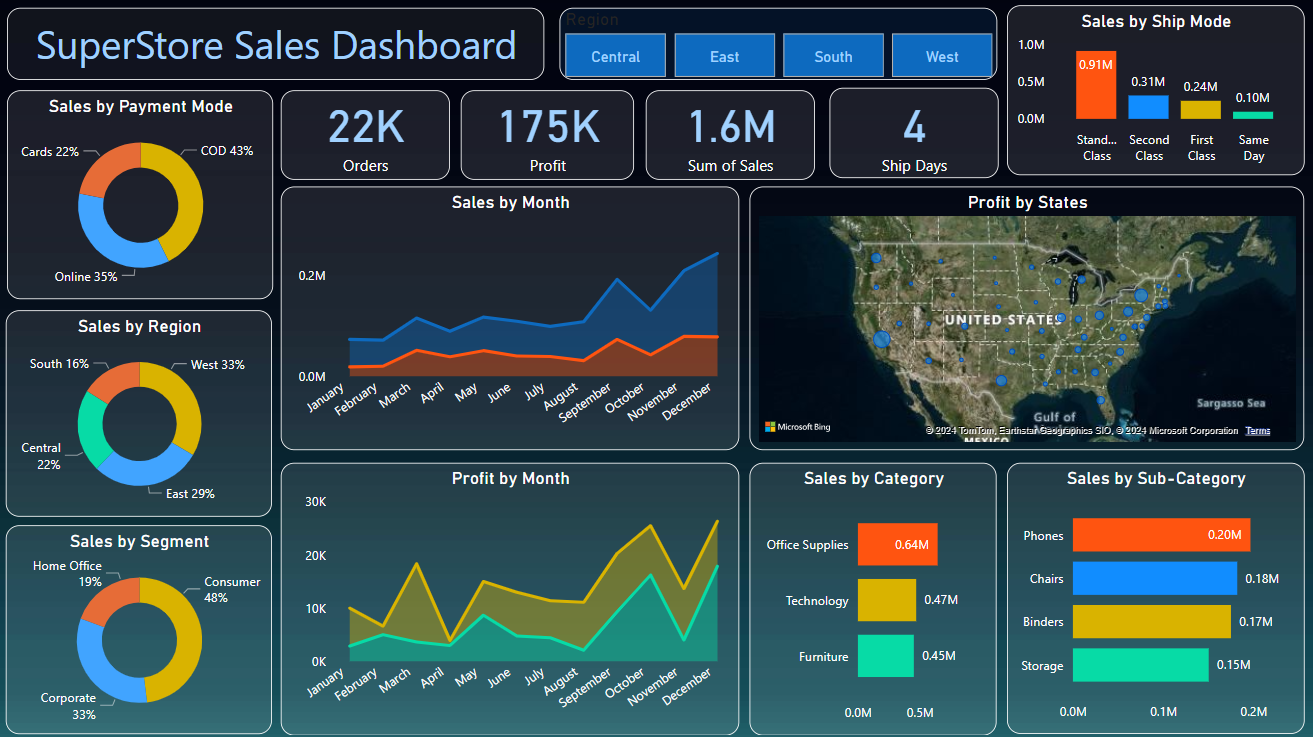

The dashboard page shown, as its layout file describes it:
{"tool":"powerbi","page":{"name":"Page 1","canvas":[1280,720],"ordinal":0},"visuals":[{"type":"columnChart","title":"Sales by Ship Mode","fields":{"Category":["Sheet1.Ship Mode"],"Y":["Sum(Sheet1.Sales)"]},"box":[979.3,6,287,164],"z":0},{"type":"clusteredBarChart","title":"Sales by Category","fields":{"Y":["Sum(Sheet1.Sales)"],"Category":["Sheet1.Category"]},"box":[730.9,447.4,238.8,262.9],"z":1000},{"type":"clusteredBarChart","title":"Sales by Sub-Category","fields":{"Y":["Sum(Sheet1.Sales)"],"Category":["Sheet1.Sub-Category"]},"box":[979.3,447.4,287,261.7],"z":2000},{"type":"stackedAreaChart","title":"Sales by Month ","fields":{"Y":["Sum(Sheet1.Sales)"],"Category":["Sheet1.Order Date.Variation.Date Hierarchy.Month"],"Series":["Sheet1.Order Date.Variation.Date Hierarchy.Year"]},"box":[278.6,180.9,442.6,254.5],"z":3000},{"type":"map","title":"Profit by States","fields":{"Category":["Sheet1.State"],"Size":["Sum(Sheet1.Sales)"]},"box":[730.9,180.9,535.5,254.5],"z":4000},{"type":"stackedAreaChart","title":"Profit by Month ","fields":{"Category":["Sheet1.Order Date.Variation.Date Hierarchy.Month"],"Series":["Sheet1.Order Date.Variation.Date Hierarchy.Year"],"Y":["Sum(Sheet1.Profit)"]},"box":[278.6,447.4,442.6,262.9],"z":5000},{"type":"donutChart","title":"Sales by Payment Mode","fields":{"Y":["Sum(Sheet1.Sales)"],"Category":["Sheet1.Payment Mode"]},"box":[14.5,88,256.9,201.4],"z":6000},{"type":"donutChart","title":"Sales by Region","fields":{"Y":["Sum(Sheet1.Sales)"],"Category":["Sheet1.Region"]},"box":[13.3,300.3,256.9,199],"z":7000},{"type":"donutChart","title":"Sales by Segment","fields":{"Y":["Sum(Sheet1.Sales)"],"Category":["Sheet1.Segment"]},"box":[13.3,507.7,256.9,201.4],"z":8000},{"type":"textbox","box":[14.5,8.4,518.6,69.9],"z":9000},{"type":"advancedSlicerVisual","fields":{"Values":["Sheet1.Region"]},"box":[547.5,8.4,422.1,69.9],"z":10000},{"type":"card","fields":{"Values":["Sum(Sheet1.Quantity)"]},"box":[278.6,88,162.8,86],"z":11000},{"type":"card","fields":{"Values":["Sum(Sheet1.Profit)"]},"box":[452.3,88,167,86],"z":12000},{"type":"card","fields":{"Values":["Sum(Sheet1.Sales)"]},"box":[630.8,88,162.8,86],"z":13000},{"type":"card","fields":{"Values":["Avg(Sheet1.Avg Delivery Days)"]},"box":[808,85.6,162.8,86.8],"z":14000}]}

Visuals, with their boxes in screenshot pixels (x1, y1, x2, y2), scaled from the page's 1280x720 canvas onto the 1313x737 screenshot:
"Sales by Ship Mode" columnChart: (1005, 6, 1299, 174)
"Sales by Category" clusteredBarChart: (750, 458, 995, 727)
"Sales by Sub-Category" clusteredBarChart: (1005, 458, 1299, 726)
"Sales by Month " stackedAreaChart: (286, 185, 740, 446)
"Profit by States" map: (750, 185, 1299, 446)
"Profit by Month " stackedAreaChart: (286, 458, 740, 727)
"Sales by Payment Mode" donutChart: (15, 90, 278, 296)
"Sales by Region" donutChart: (14, 307, 277, 511)
"Sales by Segment" donutChart: (14, 520, 277, 726)
textbox: (15, 9, 547, 80)
advancedSlicerVisual - Sheet1.Region: (562, 9, 995, 80)
card - Sum(Sheet1.Quantity): (286, 90, 453, 178)
card - Sum(Sheet1.Profit): (464, 90, 635, 178)
card - Sum(Sheet1.Sales): (647, 90, 814, 178)
card - Avg(Sheet1.Avg Delivery Days): (829, 88, 996, 176)
